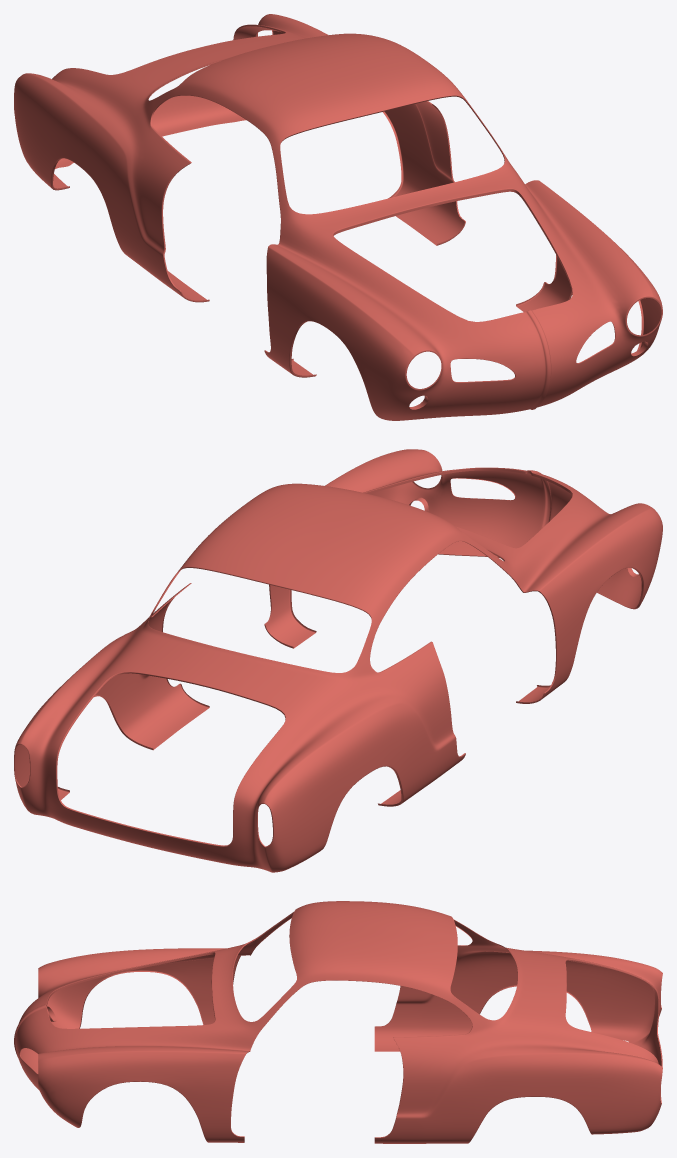
File: body.fbx
The picture shows the model from 3 angles, top to bottom: view 1: azimuth 30°, elevation 25°; view 2: azimuth 150°, elevation 25°; view 3: azimuth 270°, elevation 25°; orthographic projection. The views are drawn at different scales.
Visible parts, largest first — view 1: body; view 2: body; view 3: body.
Boxes of the visible parts, <box> form: body: <box>14,14,662,420</box>; body: <box>14,449,662,872</box>; body: <box>14,901,662,1143</box>.
Bounding box in the file's own units: 417 × 286 × 1001.
